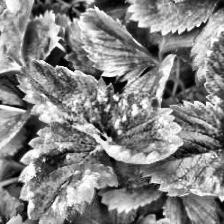Powdery Mildew Leaf: (18, 119, 117, 224), (14, 58, 125, 138), (101, 91, 184, 164)
